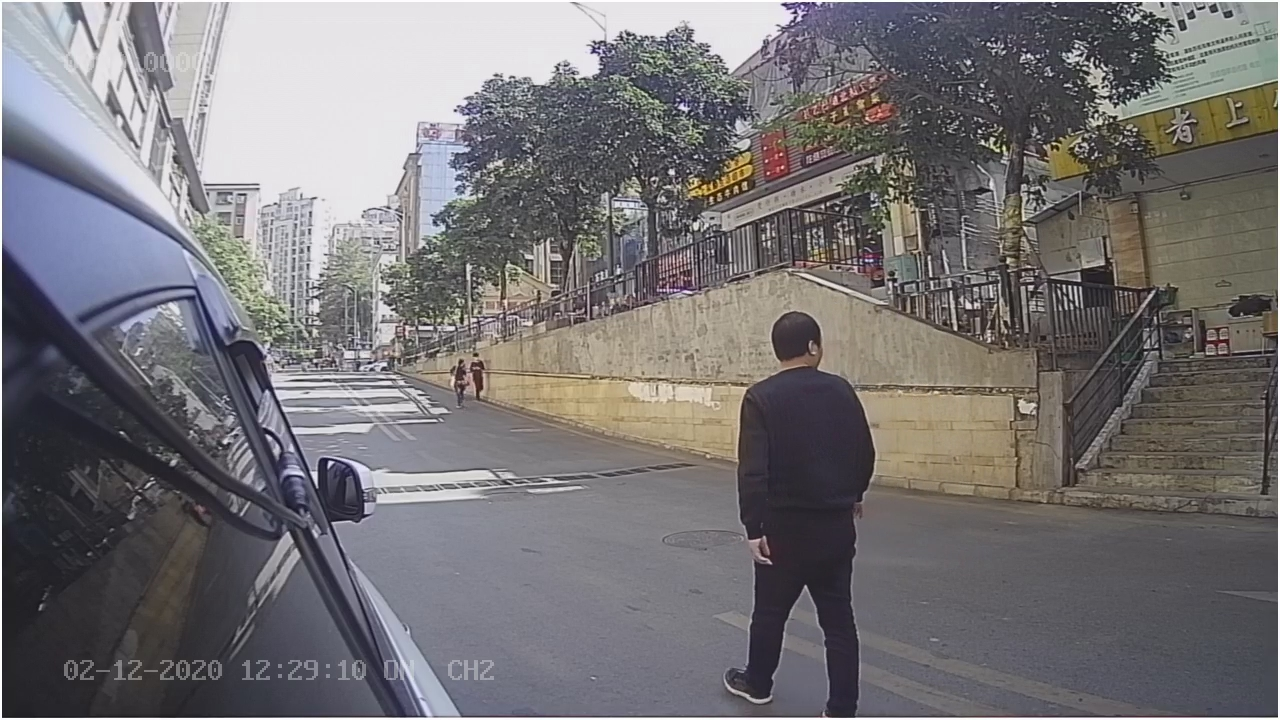person: (714, 310, 883, 696)
